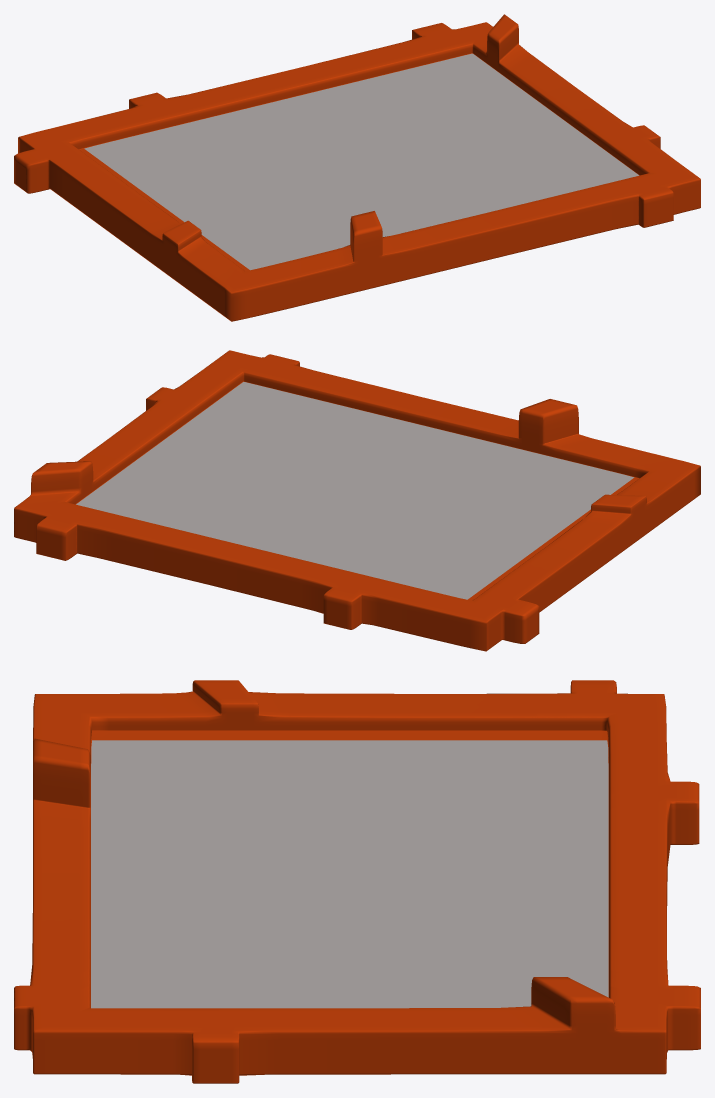
File: Field.fbx
3 renders of one model, top to bottom at view 1: azimuth 30°, elevation 25°; view 2: azimuth 150°, elevation 25°; view 3: azimuth 270°, elevation 25°, orthographic. The views are drawn at different scales.
Parts seen in each view (by area): view 1: pCube47; view 2: pCube47; view 3: pCube47.
Part boxes in pixels (x1,y1,x2,y2): pCube47: [14, 14, 700, 321]; pCube47: [14, 350, 700, 651]; pCube47: [14, 680, 700, 1083].
Size of the model in its own units: 5.48 by 0.6137 by 4.38.
